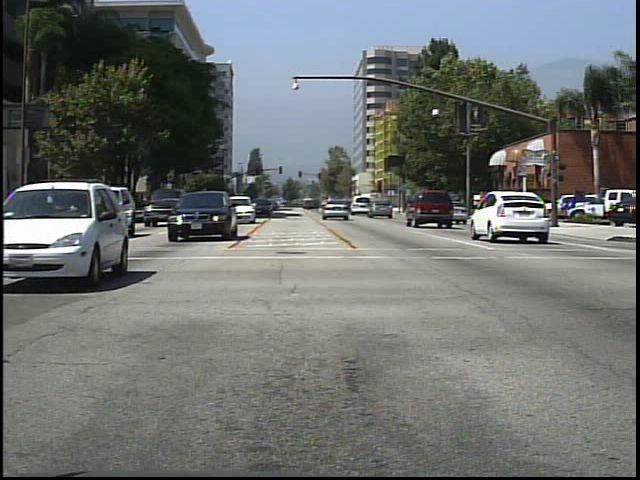person: (438, 192, 457, 225), (476, 189, 494, 219)
